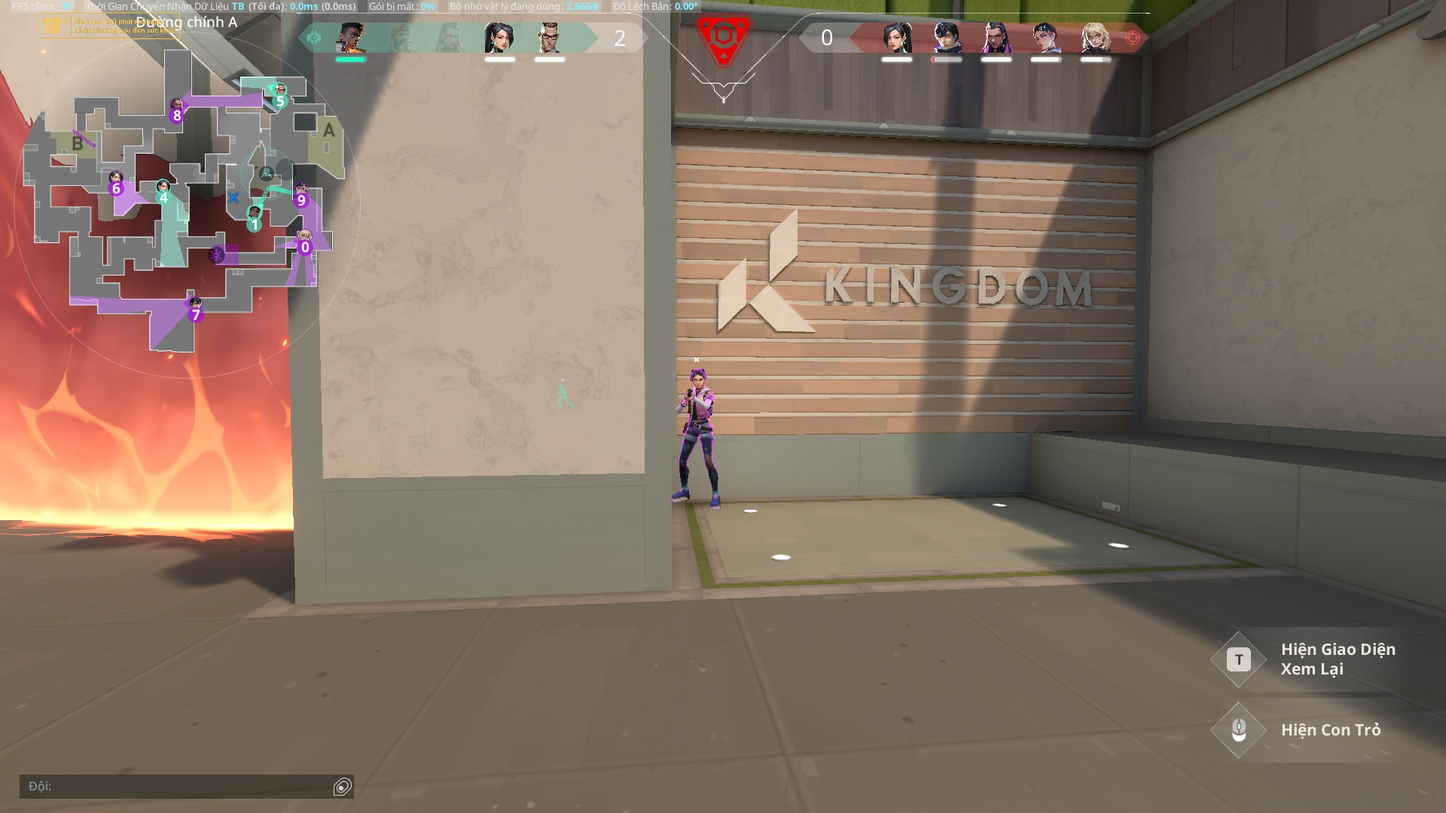body: (685, 388, 714, 434)
head: (691, 367, 707, 387)
